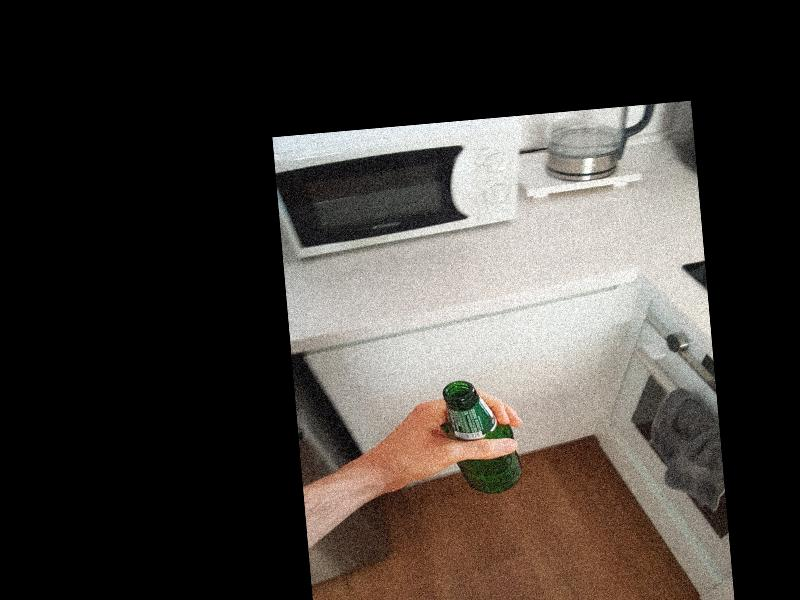Beer: (441, 377, 523, 497)
